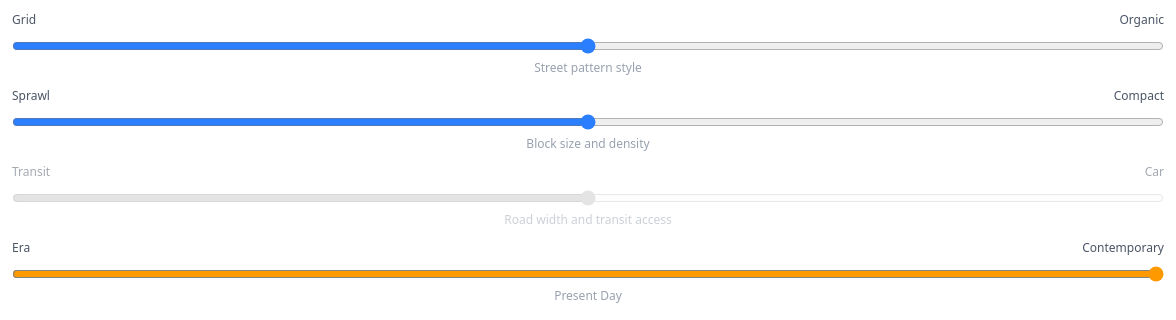
PersonalitySliders › validation constraints › transit_car disabled when no transit stations › shows tooltip explaining why transit is disabled for no stations
Hover over the element showing "Transit Car Road width and transit access": [588, 196] box [12,164,1164,228]
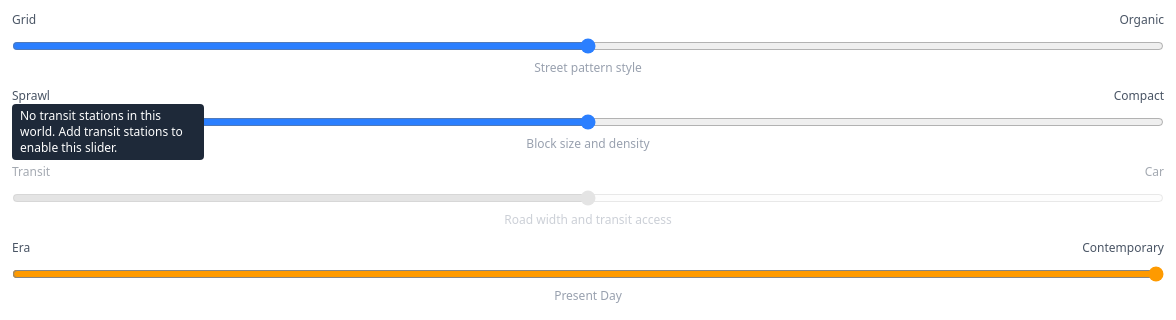
expect the text with test id "constraint-tooltip-transit_car" is shown: met, box [12,104,204,160]
expect the text with test id "constraint-tooltip-transit_car" shows "No transit stations": met, box [20,107,183,156]
